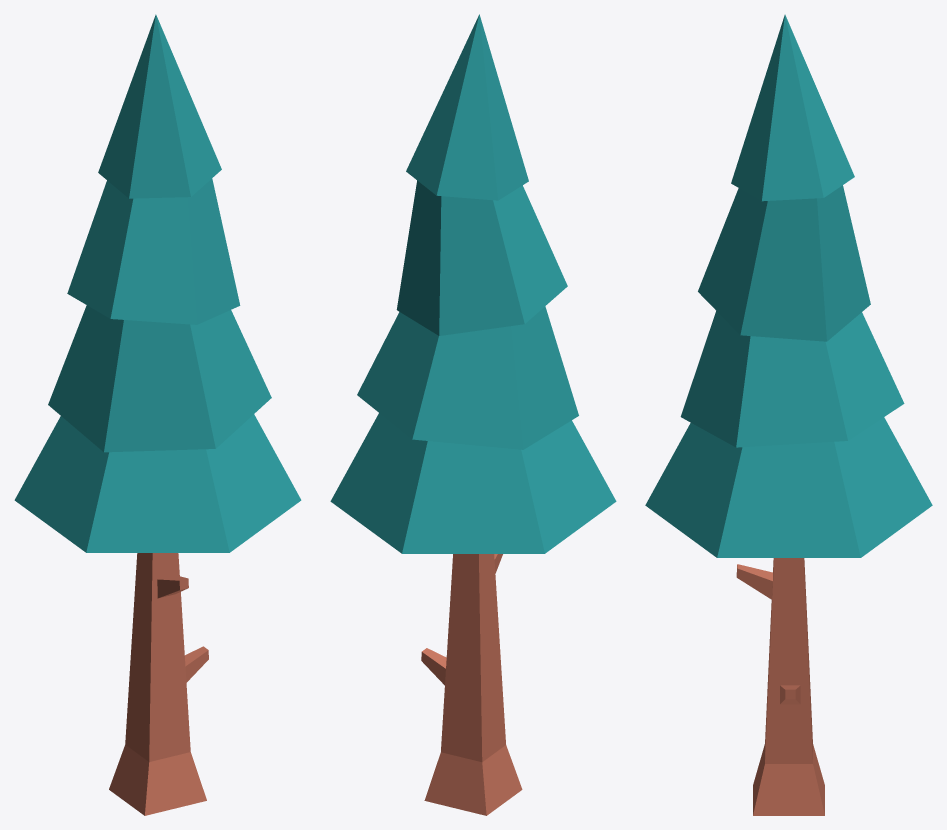
File: tree_pineTallC_detailed.dae
3 views of the same model, side by side, from view 1: azimuth 30°, elevation 25°; view 2: azimuth 150°, elevation 25°; view 3: azimuth 270°, elevation 25° (orthographic).
Visible parts, largest first — view 1: tree_pineTallC_detailed; view 2: tree_pineTallC_detailed; view 3: tree_pineTallC_detailed.
Part boxes in pixels (bbox=[...]): tree_pineTallC_detailed: bbox=[14, 14, 301, 815]; tree_pineTallC_detailed: bbox=[330, 14, 616, 815]; tree_pineTallC_detailed: bbox=[645, 14, 932, 815].
Size of the model in its own units: 0.4804 by 1.67 by 0.5547.
